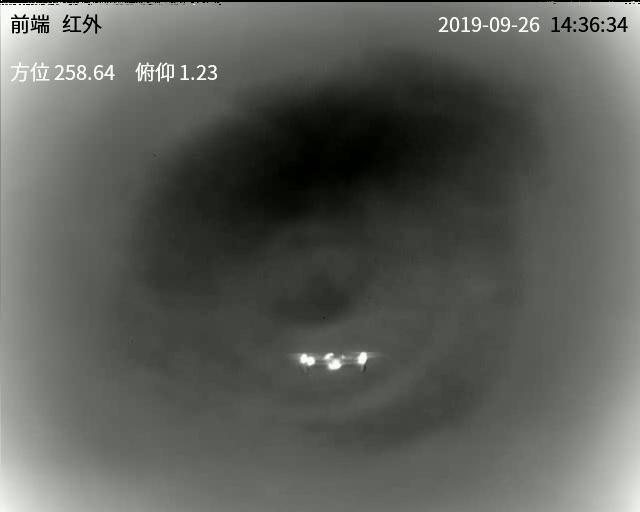DRONE: (297, 348, 369, 374)
